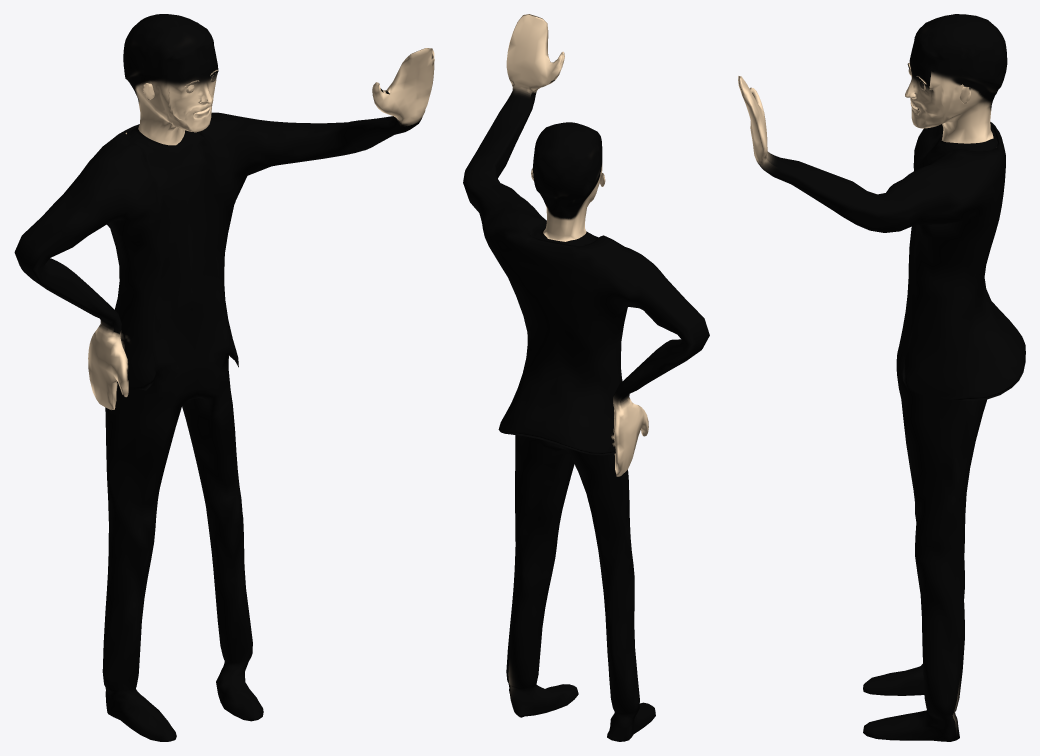
3 renders of one model, left to right at view 1: azimuth 30°, elevation 25°; view 2: azimuth 150°, elevation 25°; view 3: azimuth 270°, elevation 25°, orthographic. The views are drawn at different scales.
Visible parts, largest first — view 1: BaseHuman; view 2: BaseHuman; view 3: BaseHuman.
Part boxes in pixels (x1,y1,x2,y2): BaseHuman: [14, 14, 434, 741]; BaseHuman: [463, 14, 709, 741]; BaseHuman: [738, 14, 1025, 741].
Size of the model in its own units: 2.36 by 4.92 by 1.82.
1 material, 1 textured.
